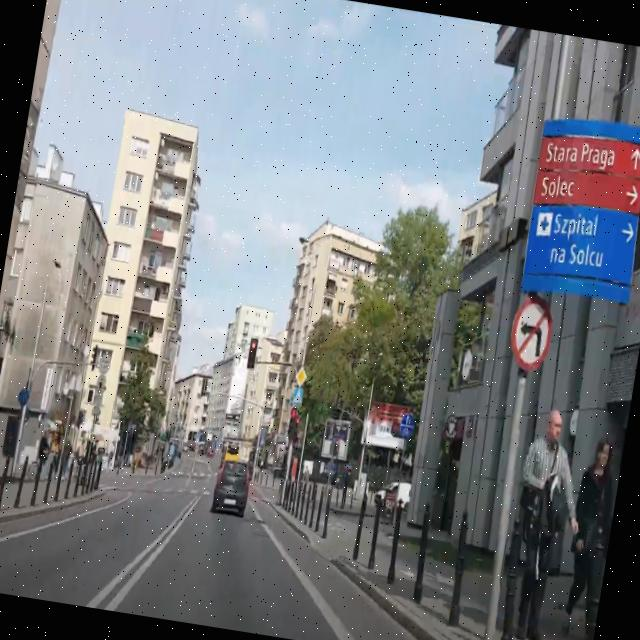Droga z pierwszenstwem: (294, 364, 308, 388)
